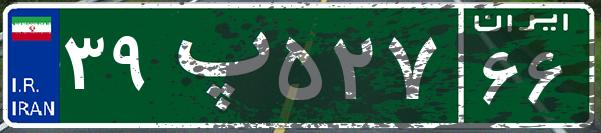2: (330, 28, 385, 110)
3: (57, 26, 110, 107)
5: (273, 28, 330, 110)
6: (475, 38, 525, 113), (525, 38, 570, 115)
7: (385, 28, 445, 110)
9: (110, 28, 158, 105)
پ: (158, 15, 273, 115)
